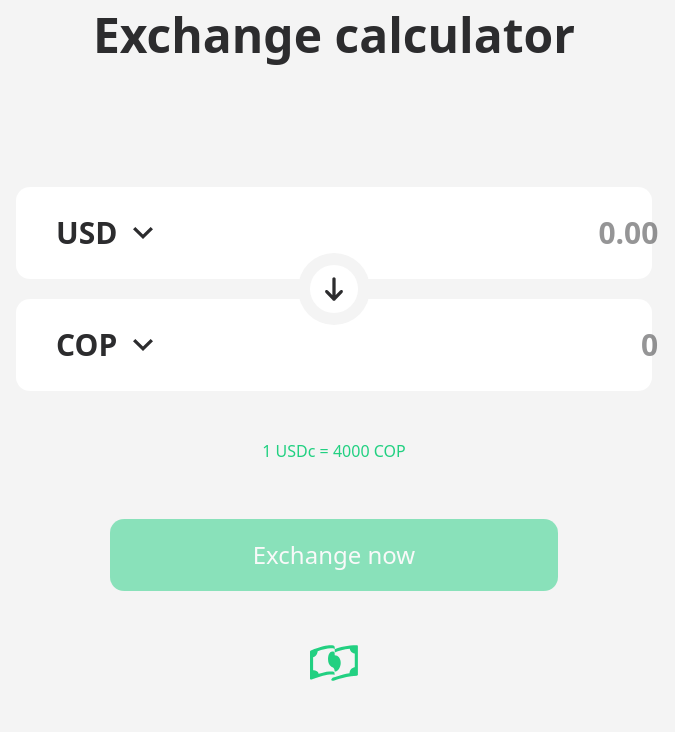
it: ExchangeCurrency › shows 1:1 rate when currencies are equal and updates when changed
This screenshot has width=675, height=732.
Click the dropdown labelled "COP" at [119, 345], box [48,319,189,371]
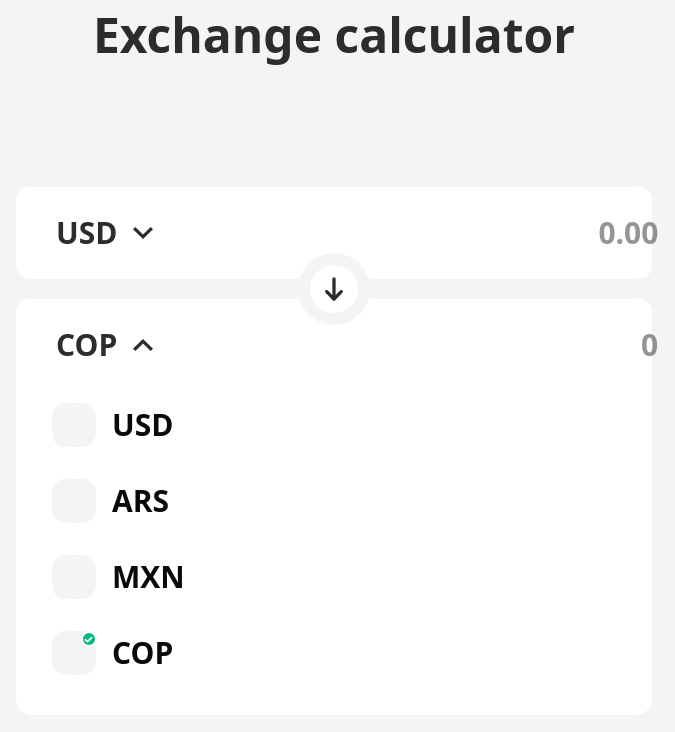
Click the option "USD" at [113, 425], box [52,403,173,447]
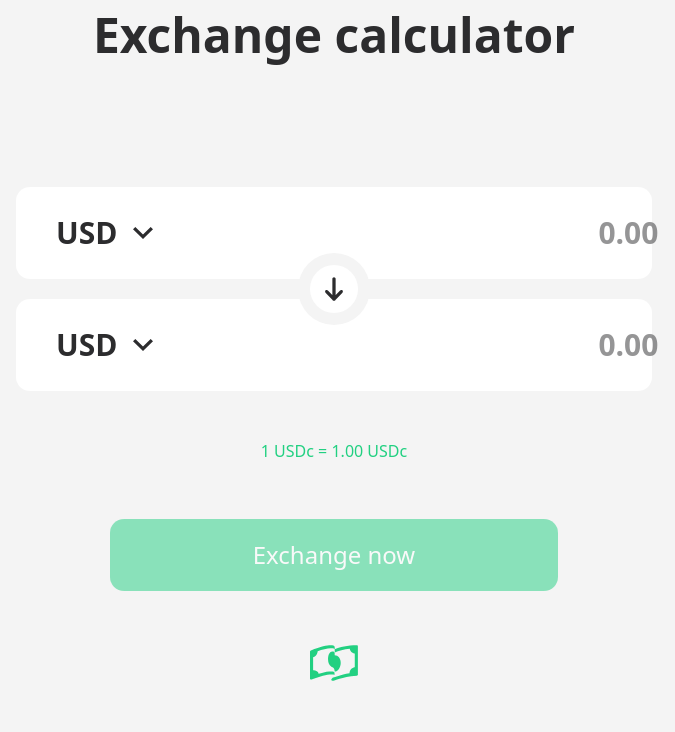
Expected: the text "1 USDc = 1.00 USDc" is shown, [261,439,407,463]
